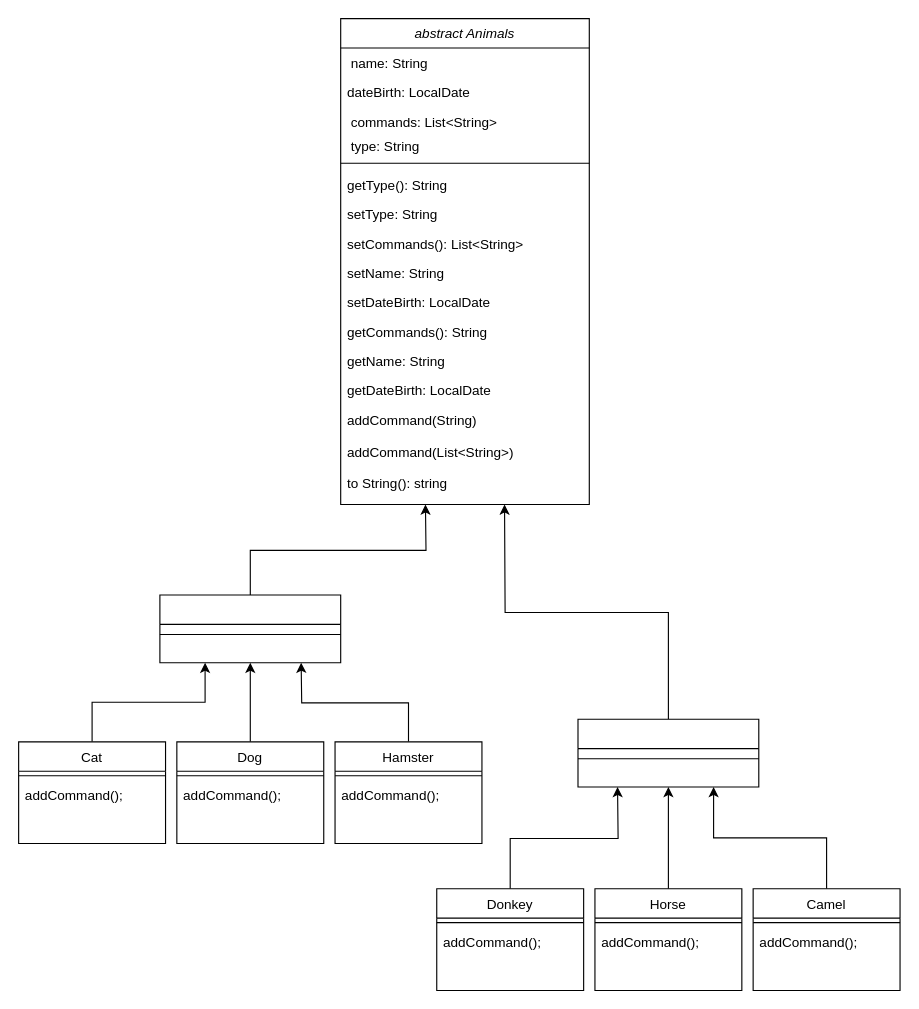
Image size: 919x1009. Some labels were removed from this diagram. The centre of each missing label's shape, as x and y in pixels:
"Pack Animals" goes at point 668,752.
"Pets" goes at point 250,628.
